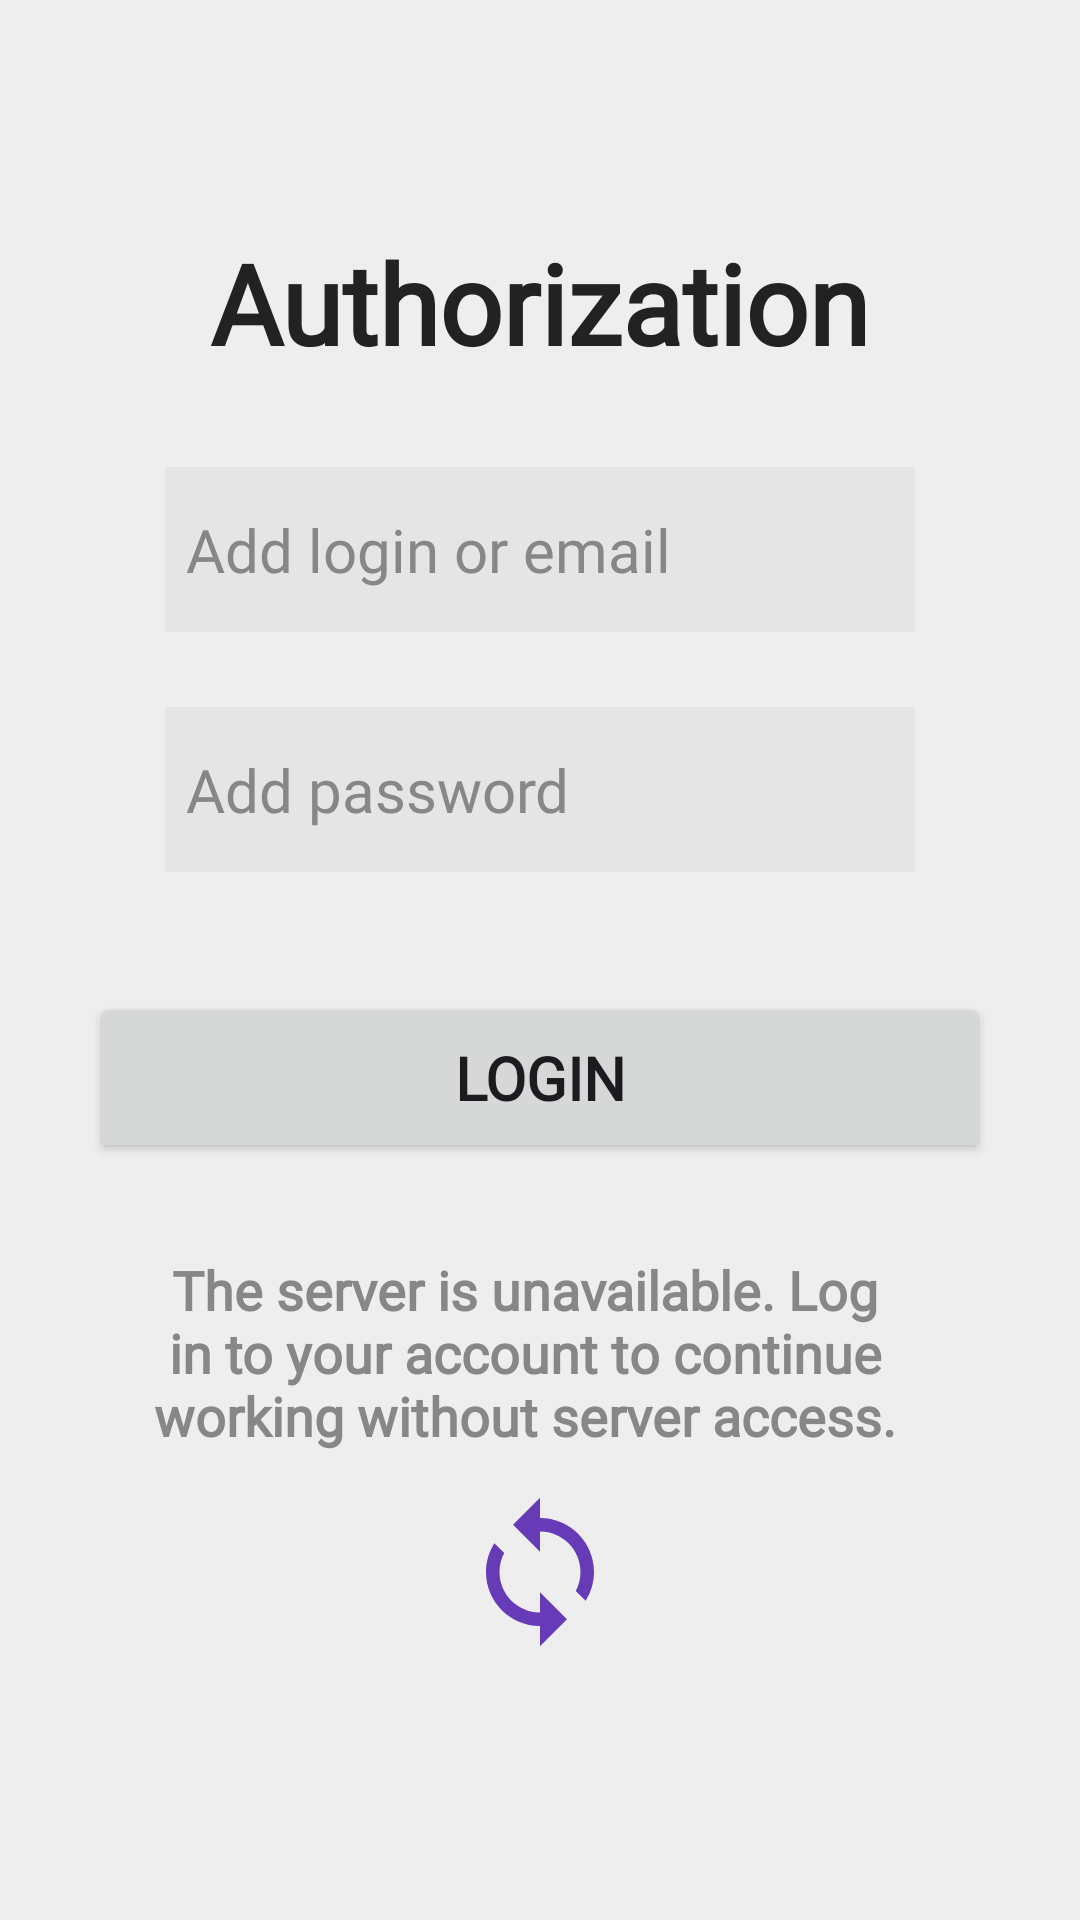

Screen size 1080 × 1920. Icon name, then its center in pixels as point (x, y):
Retry: point (540, 1572)
